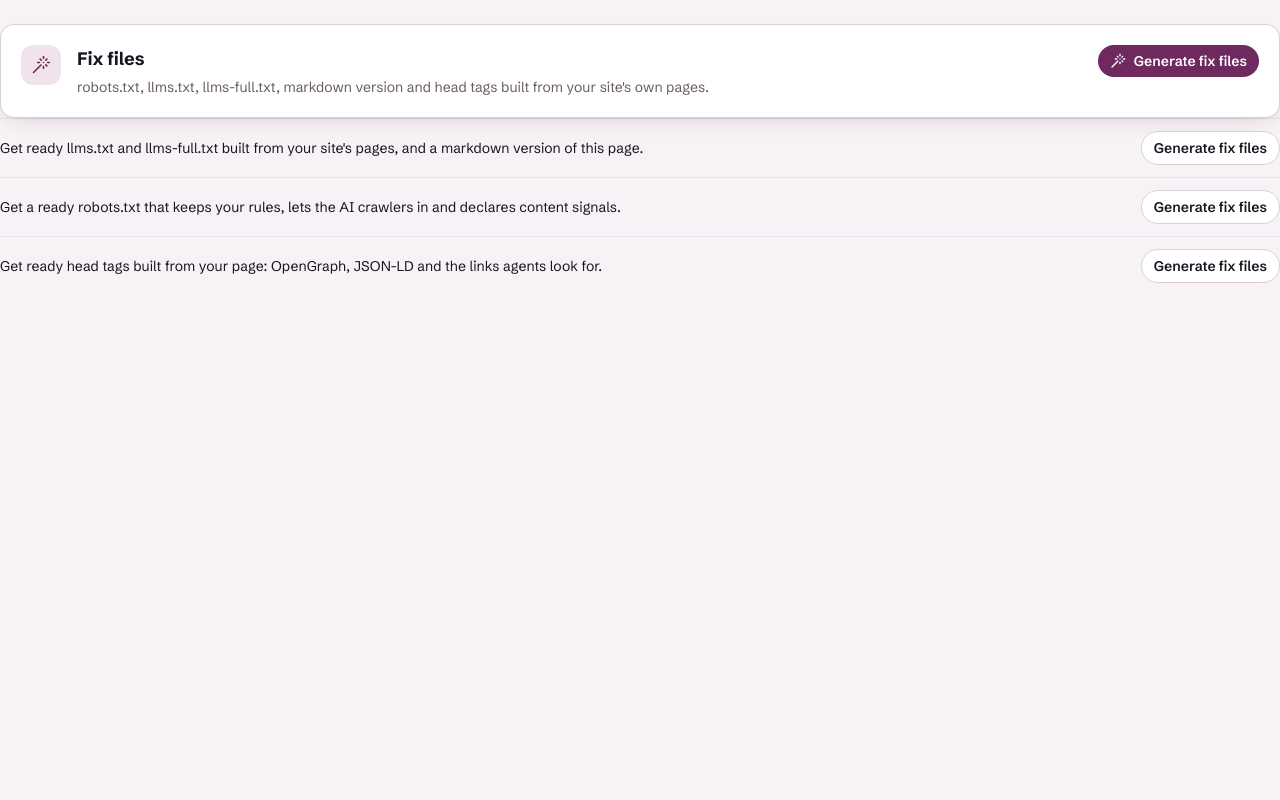
it: Fix files › guest gets the account dialog, and the press is remembered as a rerun
The width and height of the screenshot is (1280, 800).
What coordinates should you click on to do the following:
click the 1st button "Generate fix files"
I would click on:
 (1178, 61)
Its box is [1098, 45, 1259, 77].
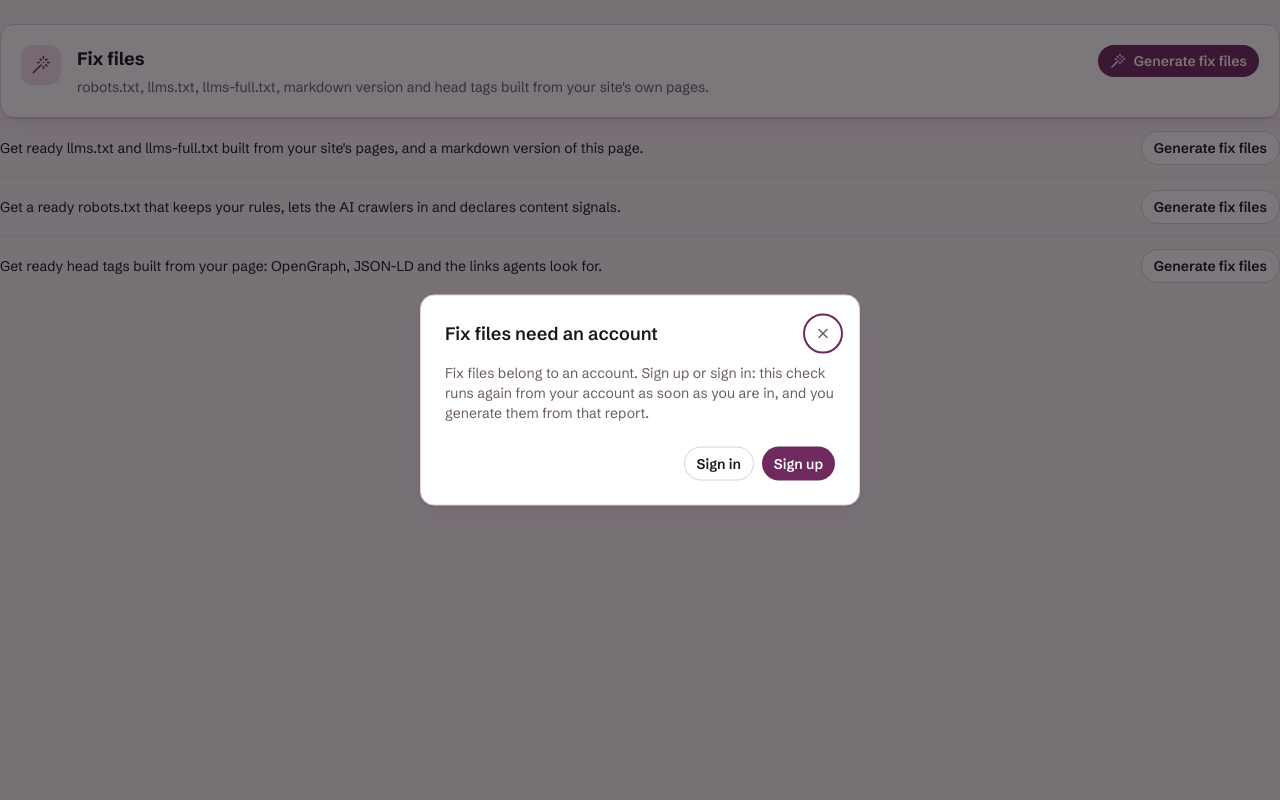
Expected: the dialog "Fix files need an account" is shown, [420, 294, 860, 506]
